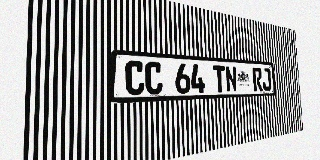4: (190, 64, 205, 93)
6: (175, 63, 191, 94)
C: (125, 60, 145, 95), (145, 61, 163, 95)
J: (262, 68, 271, 91)
N: (225, 66, 237, 92)
R: (252, 67, 263, 91)
T: (213, 65, 226, 92)
